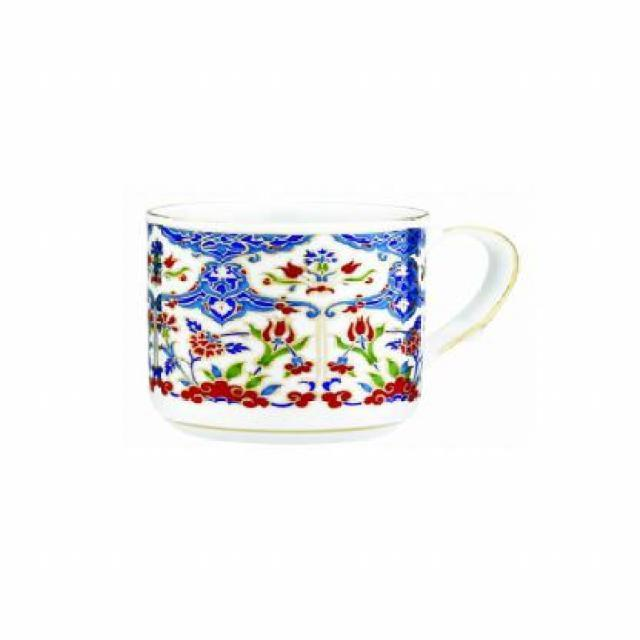taza: (143, 197, 522, 446)
